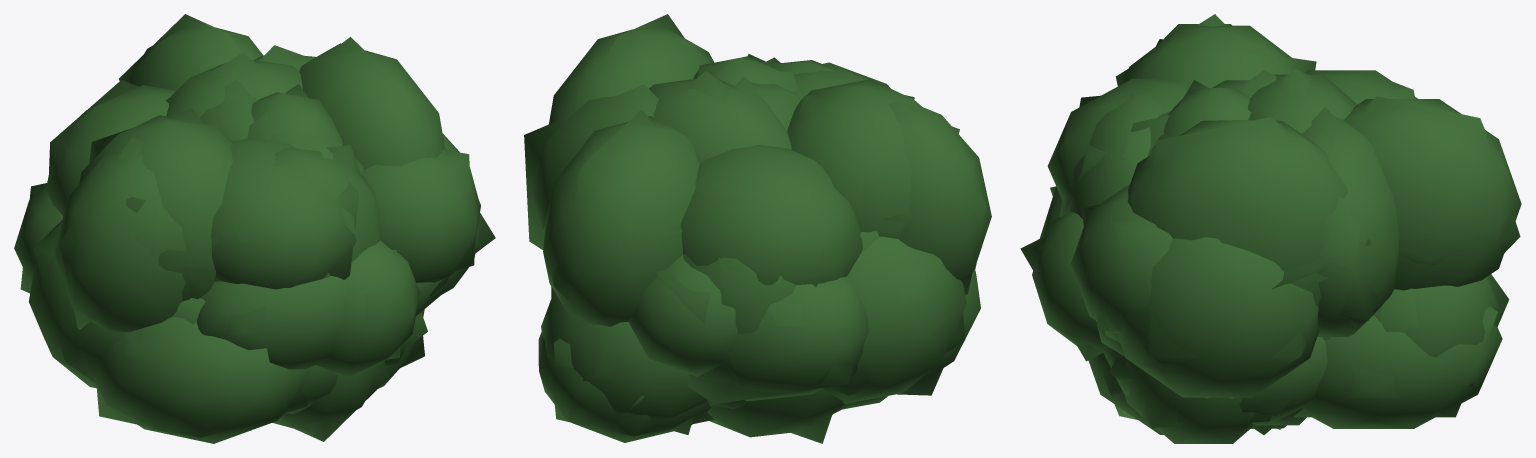
The model's file is canopies.glb.
3 renders of one model, left to right at view 1: azimuth 30°, elevation 25°; view 2: azimuth 150°, elevation 25°; view 3: azimuth 270°, elevation 25°, orthographic. The views are drawn at different scales.
Visible parts, largest first — view 1: canopy_0_high, canopy_1_high, canopy_2_high, canopy_3_high, canopy_0_low, canopy_2_low, canopy_4_high, canopy_1_low, canopy_3_low, canopy_4_low; view 2: canopy_0_high, canopy_2_high, canopy_3_high, canopy_1_high, canopy_2_low, canopy_0_low, canopy_3_low, canopy_1_low, canopy_4_high; view 3: canopy_3_high, canopy_2_high, canopy_0_high, canopy_4_high, canopy_2_low, canopy_3_low, canopy_0_low, canopy_1_high, canopy_4_low, canopy_1_low.
Part boxes in pixels (bbox=[...]): canopy_0_high: bbox=[28, 43, 444, 433]; canopy_1_high: bbox=[14, 138, 356, 413]; canopy_2_high: bbox=[46, 55, 479, 443]; canopy_3_high: bbox=[129, 25, 480, 388]; canopy_0_low: bbox=[33, 37, 418, 441]; canopy_2_low: bbox=[49, 45, 495, 437]; canopy_4_high: bbox=[172, 96, 449, 365]; canopy_1_low: bbox=[20, 137, 359, 329]; canopy_3_low: bbox=[119, 14, 474, 368]; canopy_4_low: bbox=[177, 80, 427, 349]; canopy_0_high: bbox=[549, 26, 966, 403]; canopy_2_high: bbox=[531, 56, 980, 437]; canopy_3_high: bbox=[538, 116, 748, 442]; canopy_1_high: bbox=[688, 62, 991, 409]; canopy_2_low: bbox=[524, 57, 976, 443]; canopy_0_low: bbox=[538, 14, 964, 395]; canopy_3_low: bbox=[541, 109, 738, 436]; canopy_1_low: bbox=[688, 95, 986, 413]; canopy_4_high: bbox=[752, 60, 836, 130]; canopy_3_high: bbox=[1071, 99, 1521, 443]; canopy_2_high: bbox=[1118, 70, 1500, 397]; canopy_0_high: bbox=[1032, 25, 1357, 434]; canopy_4_high: bbox=[1070, 80, 1330, 428]; canopy_2_low: bbox=[1131, 80, 1509, 398]; canopy_3_low: bbox=[1081, 96, 1520, 427]; canopy_0_low: bbox=[1020, 39, 1371, 419]; canopy_1_high: bbox=[1047, 24, 1231, 200]; canopy_4_low: bbox=[1109, 70, 1289, 434]; canopy_1_low: bbox=[1059, 14, 1225, 216].
Size of the model in its own units: 8.36 by 6.75 by 8.31.
